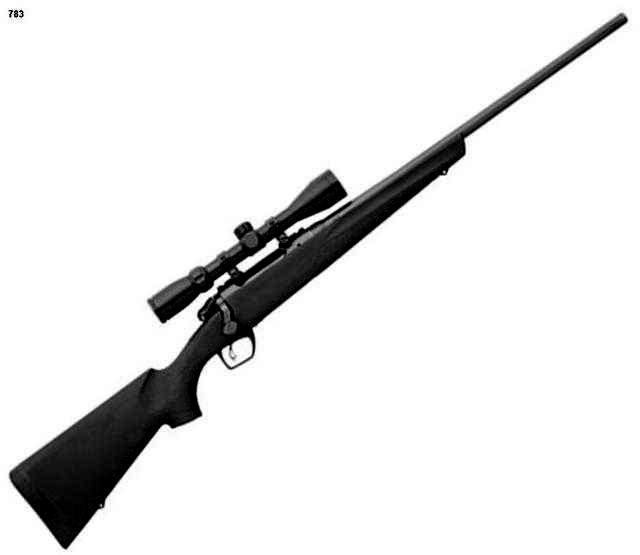rifle: (0, 3, 638, 550)
